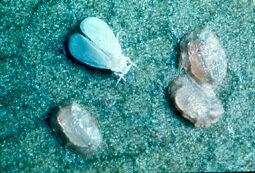whitefly: (66, 16, 136, 83)
